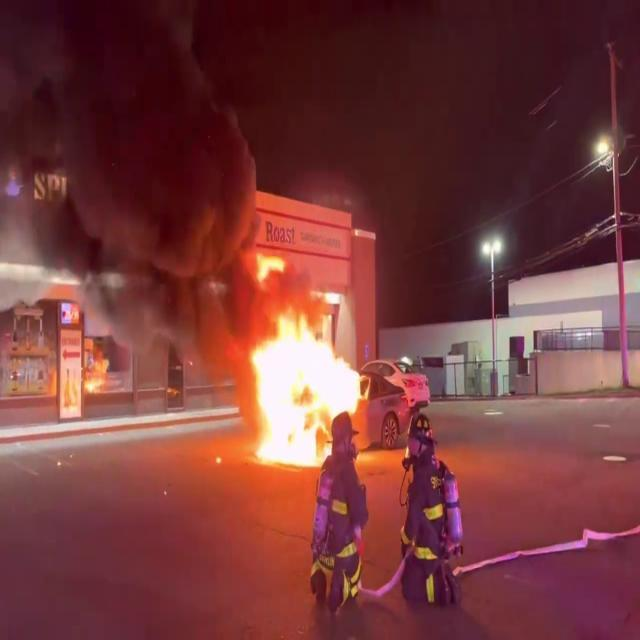Fire: (238, 274, 369, 466)
Smoke: (0, 0, 265, 371)
